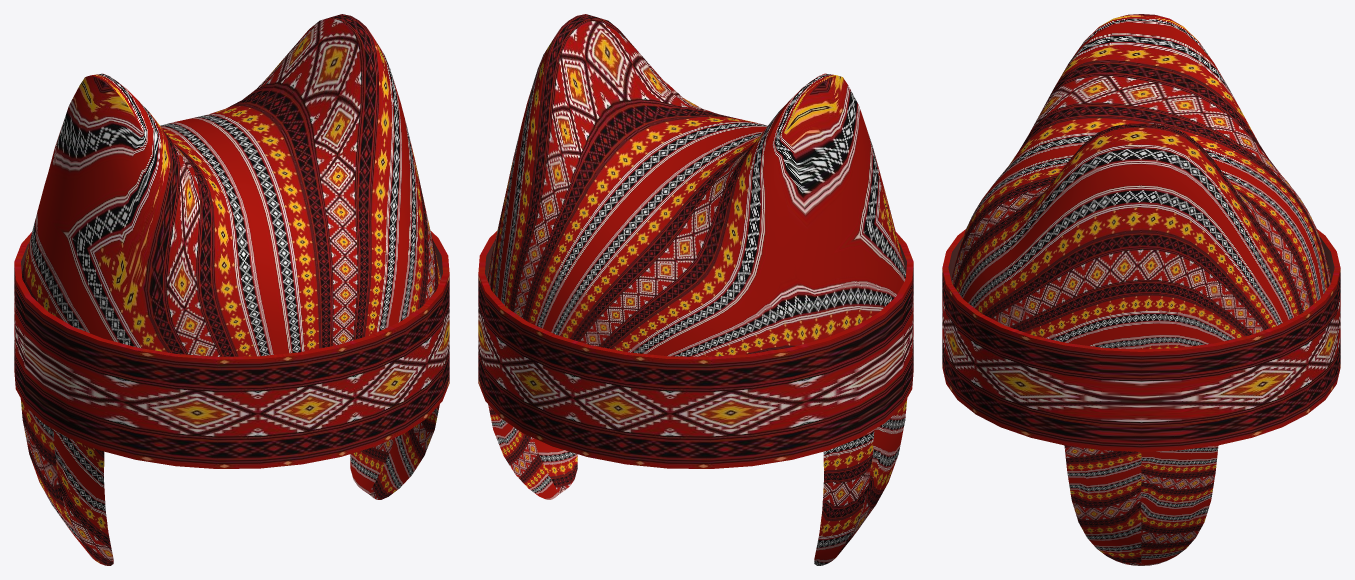
File: passapu.glb
The picture shows the model from 3 angles, left to right: view 1: azimuth 30°, elevation 25°; view 2: azimuth 150°, elevation 25°; view 3: azimuth 270°, elevation 25°; orthographic projection. The views are drawn at different scales.
Visible parts, largest first — view 1: Cube, Circle; view 2: Cube, Circle; view 3: Cube, Circle.
Boxes of the visible parts, x1,y1,x2,y2 form: Cube: [20, 14, 440, 565]; Circle: [14, 231, 449, 468]; Cube: [487, 14, 907, 565]; Circle: [478, 231, 913, 468]; Cube: [951, 14, 1331, 565]; Circle: [942, 229, 1340, 451].
Size of the model in its own units: 1.78 by 2.14 by 1.78.
2 materials, 1 textured.
